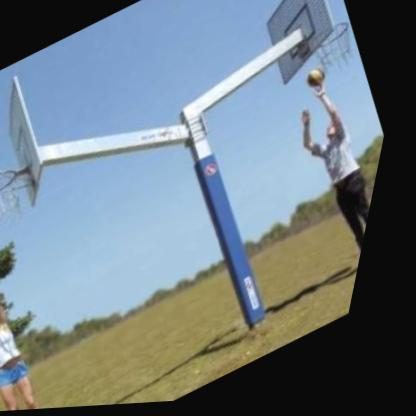basketball: (303, 64, 336, 95), (0, 229, 11, 262)
